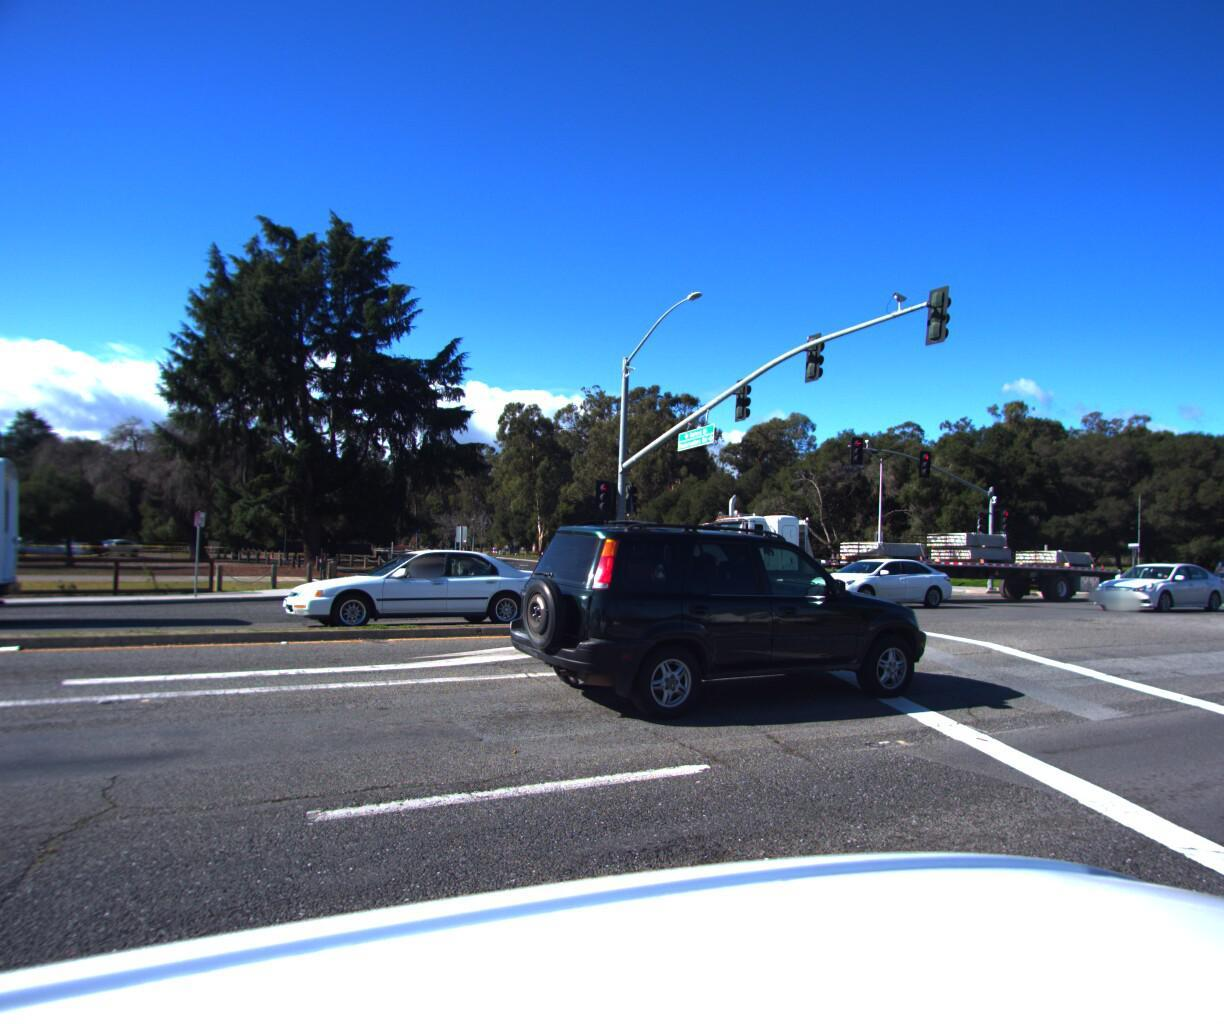bus: (0, 401, 33, 641)
car: (488, 508, 962, 734), (271, 544, 549, 630), (793, 547, 962, 604), (1078, 556, 1224, 609), (1221, 565, 1224, 603)
truck: (607, 492, 1124, 620)
